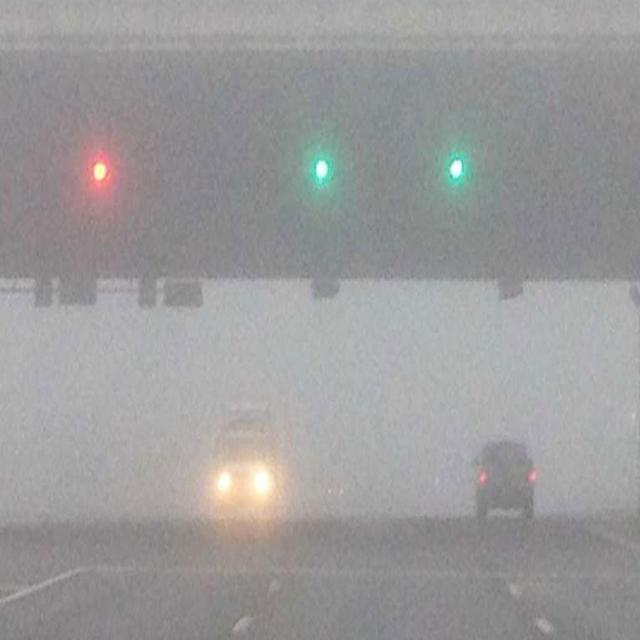bus: (213, 398, 293, 516)
car: (470, 436, 537, 526)
